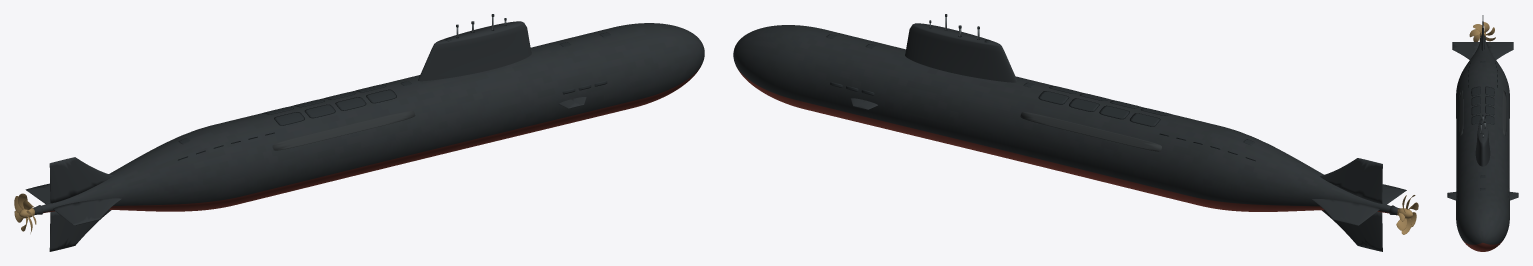
Rendered from RU_SSN_Yasen_LOD1.fbx.
3 renders of one model, left to right at view 1: azimuth 30°, elevation 25°; view 2: azimuth 150°, elevation 25°; view 3: azimuth 270°, elevation 25°, orthographic. The views are drawn at different scales.
Parts seen in each view (by area): view 1: RU_SSN_Yasen_LOD1; view 2: RU_SSN_Yasen_LOD1; view 3: RU_SSN_Yasen_LOD1.
Part boxes in pixels (x1,y1,x2,y2): RU_SSN_Yasen_LOD1: [14, 14, 704, 251]; RU_SSN_Yasen_LOD1: [733, 14, 1418, 251]; RU_SSN_Yasen_LOD1: [1447, 15, 1518, 251].
Size of the model in its own units: 120 by 17.2 by 21.96.
Materials: 7 (1 with a texture image).
